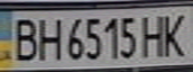1: (103, 13, 121, 60)
5: (118, 13, 142, 60), (81, 14, 103, 61)
6: (63, 14, 84, 61)
B: (6, 15, 42, 62)
H: (139, 11, 172, 58), (33, 15, 63, 62)
K: (157, 9, 193, 58)
